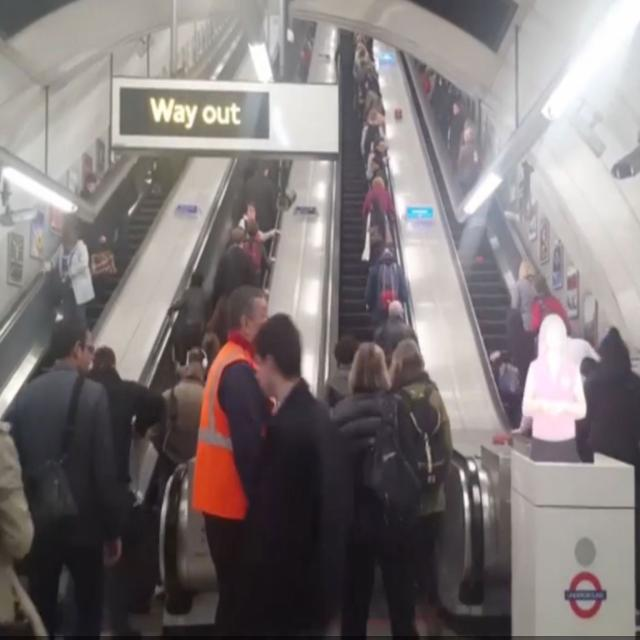body: (236, 307, 352, 640), (8, 315, 124, 640), (190, 280, 280, 640), (323, 338, 426, 640), (288, 14, 482, 166), (79, 345, 169, 639), (388, 337, 453, 637), (512, 310, 599, 470), (0, 418, 51, 639), (583, 326, 640, 466), (39, 215, 96, 343), (156, 347, 210, 460), (366, 245, 408, 345), (213, 226, 261, 306), (243, 160, 279, 266), (166, 270, 212, 350), (514, 259, 541, 386), (497, 309, 537, 388), (375, 299, 420, 369), (322, 333, 359, 407), (530, 274, 569, 342), (201, 294, 230, 383), (364, 223, 390, 311), (240, 218, 272, 287), (361, 198, 394, 262), (237, 200, 267, 244), (367, 198, 388, 256), (201, 331, 220, 384), (79, 174, 102, 208), (369, 156, 389, 192), (518, 157, 534, 200)
